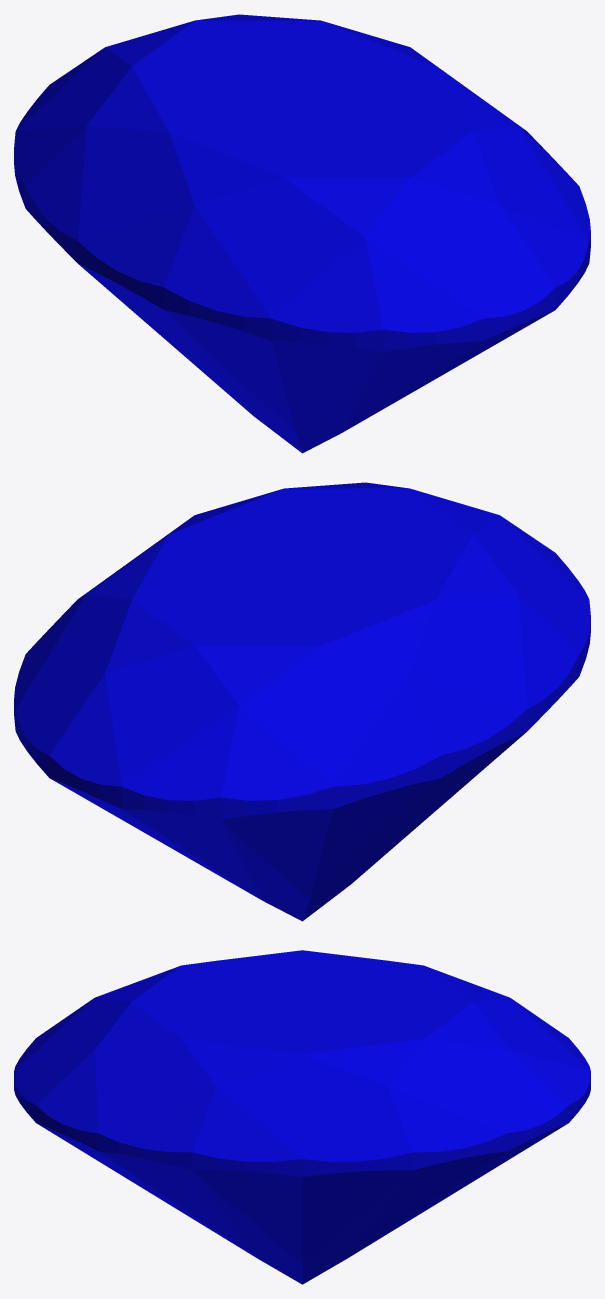
The model's file is Head_Single Halo_Oval_0.75ct_Diamond.glb.
3 views of the same model, one above another, from view 1: azimuth 30°, elevation 25°; view 2: azimuth 150°, elevation 25°; view 3: azimuth 270°, elevation 25° (orthographic). The views are drawn at different scales.
Size of the model in its own units: 0.00499 by 0.00376 by 0.00695.
